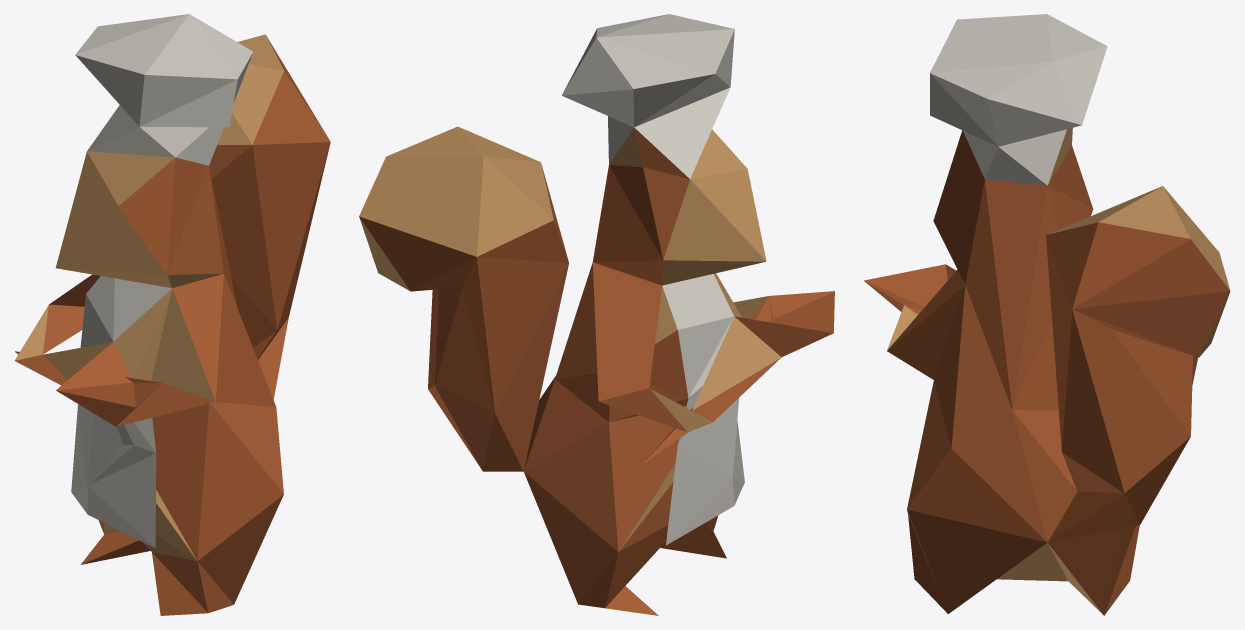
The picture shows the model from 3 angles, left to right: view 1: azimuth 30°, elevation 25°; view 2: azimuth 150°, elevation 25°; view 3: azimuth 270°, elevation 25°; orthographic projection. The views are drawn at different scales.
Visible parts, largest first — view 1: lion-200; view 2: lion-200; view 3: lion-200.
Boxes of the visible parts, x1,y1,x2,y2 form: lion-200: [14, 14, 330, 615]; lion-200: [359, 14, 834, 615]; lion-200: [864, 14, 1230, 615].
Bounding box in the file's own units: 0.6316 × 0.9843 × 0.5869.
